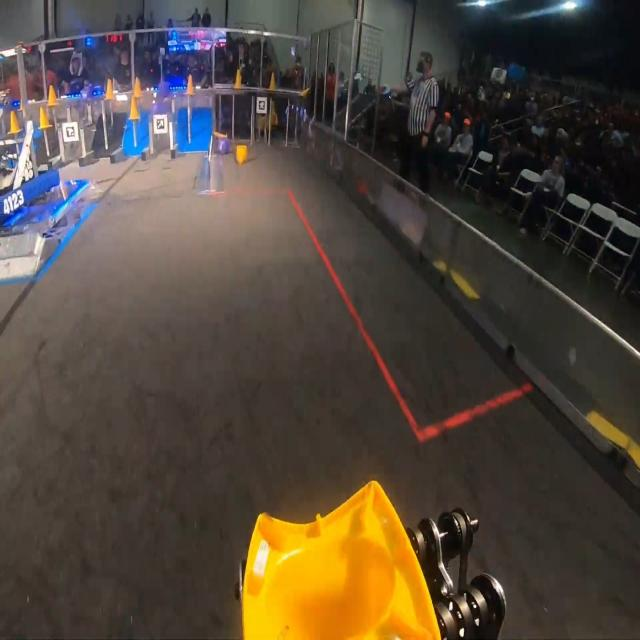robot: (0, 117, 62, 227)
